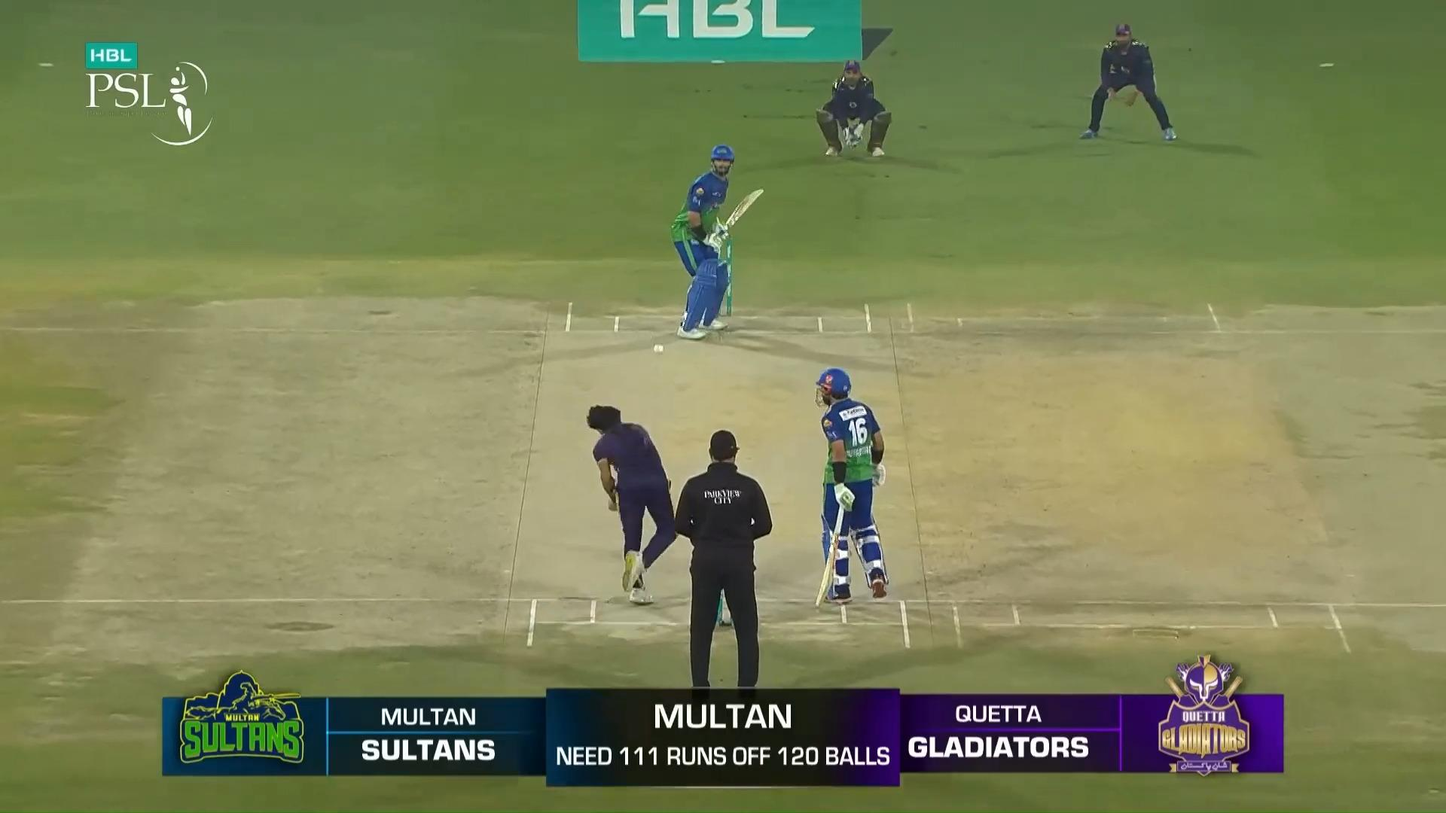batsman: (671, 144, 765, 340)
